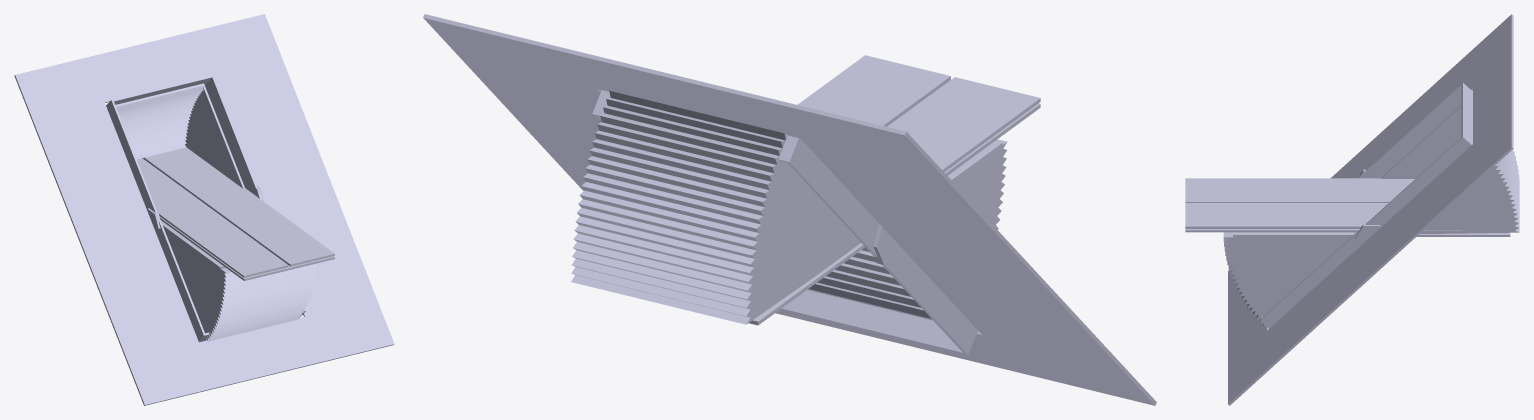
File: RD_Plat10in.glb
3 renders of one model, left to right at view 1: azimuth 30°, elevation 25°; view 2: azimuth 150°, elevation 25°; view 3: azimuth 270°, elevation 25°, orthographic. The views are drawn at different scales.
Parts seen in each view (by area): view 1: copy_Body021, copy_LinkGroup004, copy_Body023, copy_Body022, copy_Body, copy_Body017, copy_Body016, copy_LinkGroup003; view 2: copy_Body021, copy_Body022, copy_LinkGroup004, copy_Body, copy_Body023, copy_Body017, copy_LinkGroup003, copy_Body016, copy_Body002; view 3: copy_Body021, copy_LinkGroup004, copy_Body022, copy_Body, copy_Body023, copy_Body017, copy_Body016, copy_LinkGroup003.
Boxes of the visible parts, x1=… form: copy_Body021: x1=14, y1=14, x2=394, y2=405; copy_LinkGroup004: x1=145, y1=162, x2=334, y2=280; copy_Body023: x1=164, y1=228, x2=316, y2=341; copy_Body022: x1=115, y1=83, x2=244, y2=188; copy_Body: x1=106, y1=75, x2=305, y2=342; copy_Body017: x1=137, y1=158, x2=263, y2=259; copy_Body016: x1=142, y1=147, x2=308, y2=250; copy_LinkGroup003: x1=160, y1=220, x2=225, y2=269; copy_Body021: x1=423, y1=14, x2=1156, y2=405; copy_Body022: x1=571, y1=90, x2=860, y2=324; copy_LinkGroup004: x1=797, y1=55, x2=1040, y2=175; copy_Body: x1=592, y1=90, x2=977, y2=354; copy_Body023: x1=807, y1=139, x2=1007, y2=320; copy_Body017: x1=890, y1=109, x2=997, y2=169; copy_LinkGroup003: x1=749, y1=141, x2=1002, y2=325; copy_Body016: x1=798, y1=86, x2=907, y2=126; copy_Body002: x1=873, y1=224, x2=900, y2=264; copy_Body021: x1=1228, y1=14, x2=1513, y2=405; copy_LinkGroup004: x1=1185, y1=178, x2=1462, y2=232; copy_Body022: x1=1381, y1=106, x2=1519, y2=233; copy_Body: x1=1260, y1=82, x2=1472, y2=328; copy_Body023: x1=1223, y1=232, x2=1350, y2=326; copy_Body017: x1=1233, y1=189, x2=1402, y2=201; copy_Body016: x1=1233, y1=203, x2=1509, y2=228; copy_LinkGroup003: x1=1233, y1=232, x2=1510, y2=236.
Bounding box in the file's own units: 1.68 × 1.52 × 1.78.
